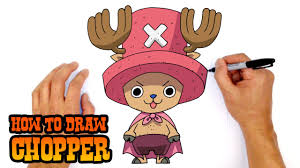chopper: (87, 4, 222, 168)
